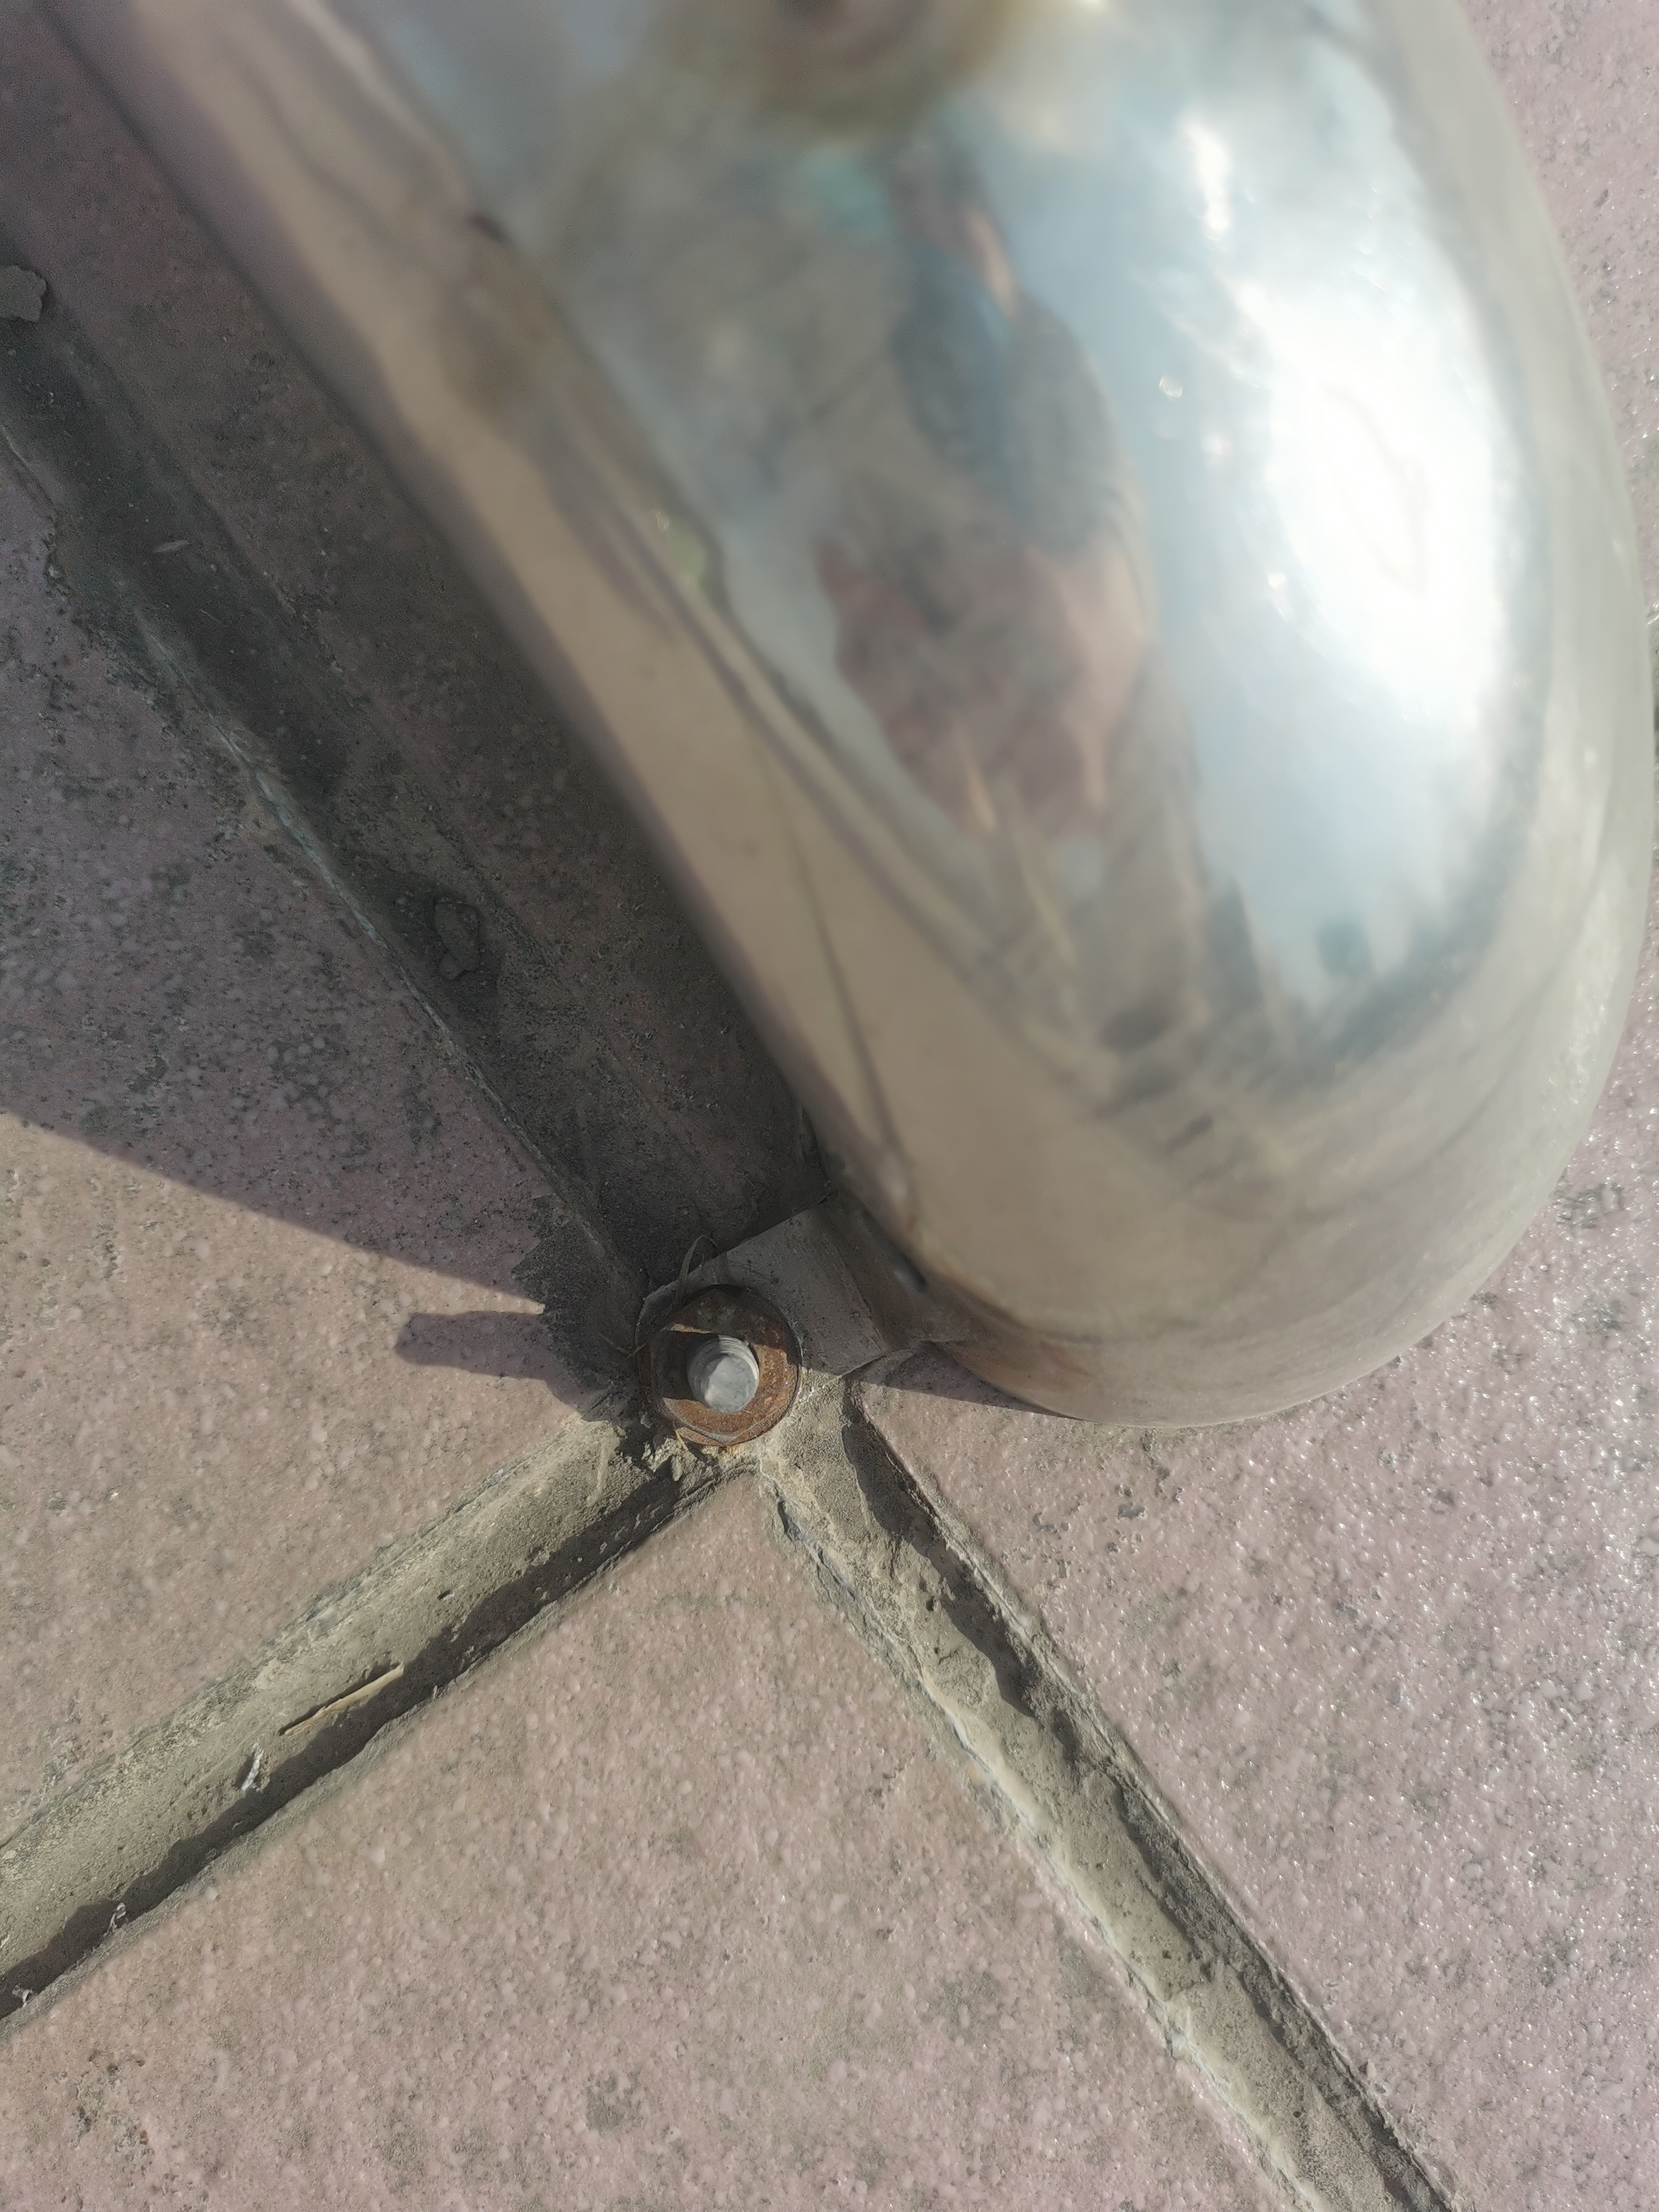bolt_b: (640, 1284, 807, 1451)
